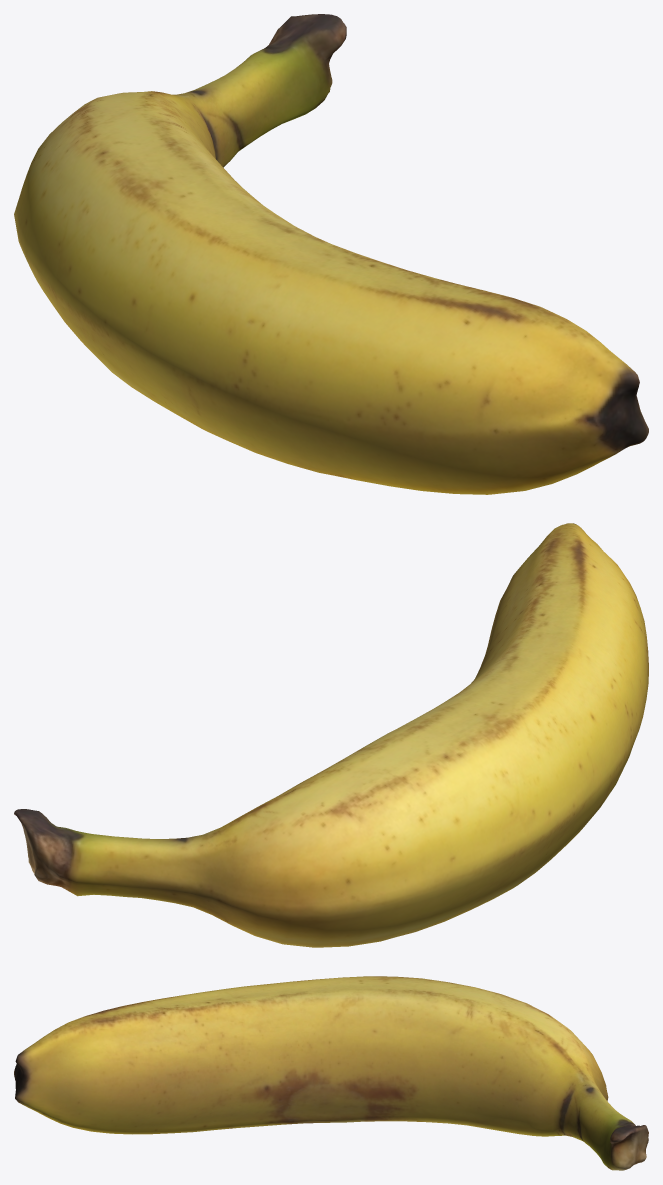
Rendered from bananas.glb.
3 renders of one model, top to bottom at view 1: azimuth 30°, elevation 25°; view 2: azimuth 150°, elevation 25°; view 3: azimuth 270°, elevation 25°, orthographic. The views are drawn at different scales.
Visible parts, largest first — view 1: bananas_b; view 2: bananas_b; view 3: bananas_b.
Boxes of the visible parts, bbox=[...] form: bananas_b: bbox=[14, 14, 648, 494]; bananas_b: bbox=[14, 523, 648, 947]; bananas_b: bbox=[14, 976, 648, 1170].
Size of the model in its own units: 0.0991 by 0.0433 by 0.1889.
Materials: 1 (1 with a texture image).
